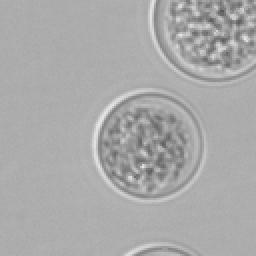picoshell: (92, 88, 204, 200), (150, 0, 254, 84), (124, 242, 196, 254)
